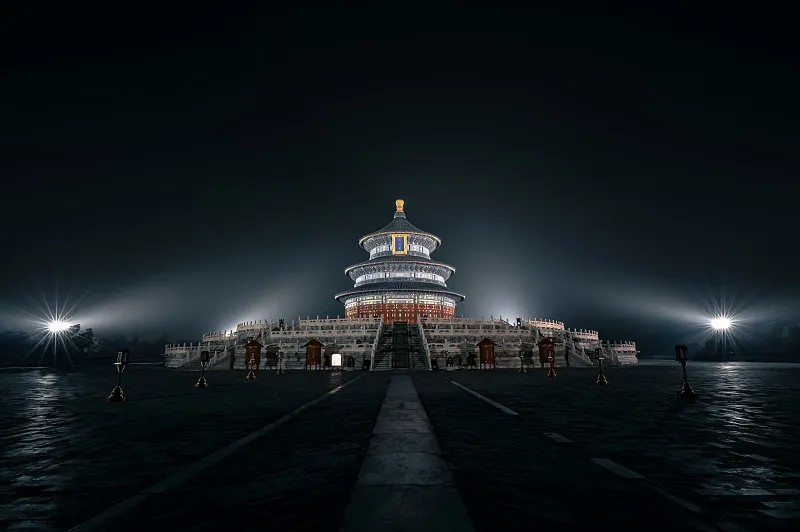Heaven: (332, 198, 466, 322)
